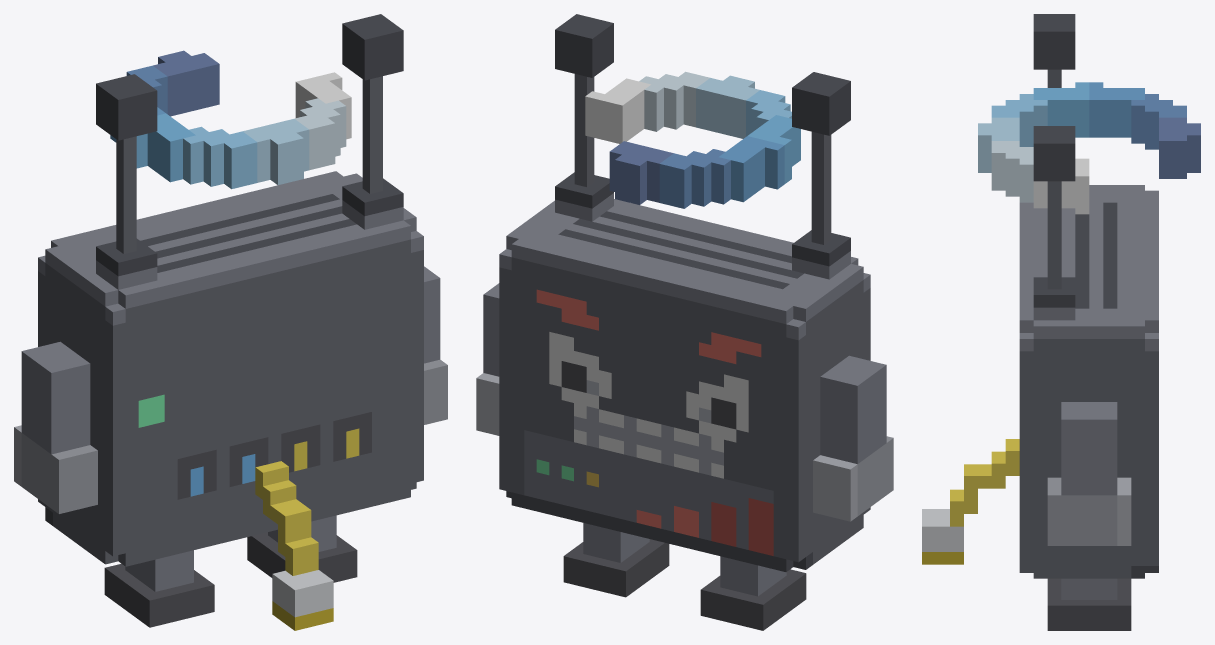
Rendered from LaginoPingone.glb.
3 renders of one model, left to right at view 1: azimuth 30°, elevation 25°; view 2: azimuth 150°, elevation 25°; view 3: azimuth 270°, elevation 25°, orthographic. The views are drawn at different scales.
Visible parts, largest first — view 1: geometry_0; view 2: geometry_0; view 3: geometry_0.
Boxes of the visible parts, left/top/right/bottom form: geometry_0: left=14, top=14, right=447, bottom=630; geometry_0: left=476, top=14, right=893, bottom=630; geometry_0: left=922, top=14, right=1200, bottom=630.
Size of the model in its own units: 0.7143 by 0.9524 by 0.4762.
